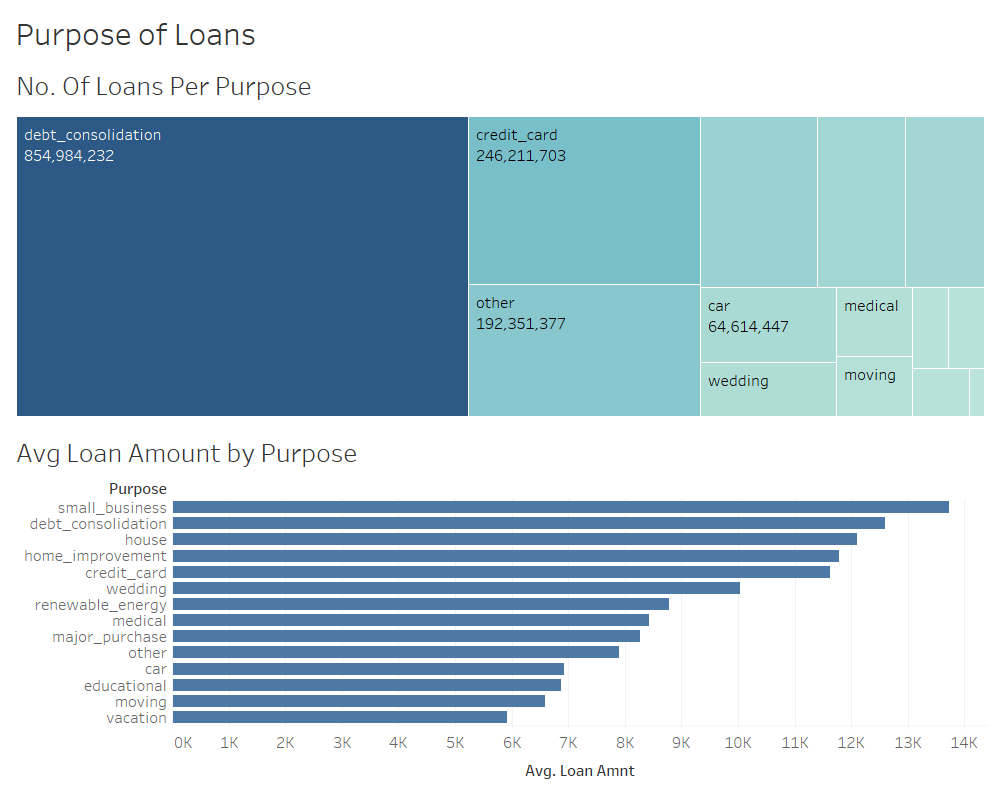

The dashboard page shown, as its layout file describes it:
{"tool":"tableau","page":{"name":"Dashboard 2","canvas":[1000,800],"ordinal":1},"visuals":[{"type":"title","box":[8,8,984,50]},{"type":"worksheet","title":"No. Of Loans Per Purpose","mark":"Automatic","box":[8,58,984,367]},{"type":"worksheet","title":"Avg Loan Amount by Purpose","mark":"Automatic","rows":["loan_amnt"],"cols":["purpose"],"box":[8,425,824,367]},{"type":"legend","title":"No. Of Loans Per Purpose","param":"[federated.0m5syuf1r1d1d11dcrau10e52q30].[cnt:Number of Records:qk]","box":[832,425,160,73]}]}

Visuals, with their boxes in screenshot pixels (x1, y1, x2, y2), scaled from the page's 1000x800 canvas onto the 1000x800 screenshot:
title: [8,8,992,58]
"No. Of Loans Per Purpose" worksheet: [8,58,992,425]
"Avg Loan Amount by Purpose" worksheet: [8,425,832,792]
"No. Of Loans Per Purpose" legend: [832,425,992,498]
